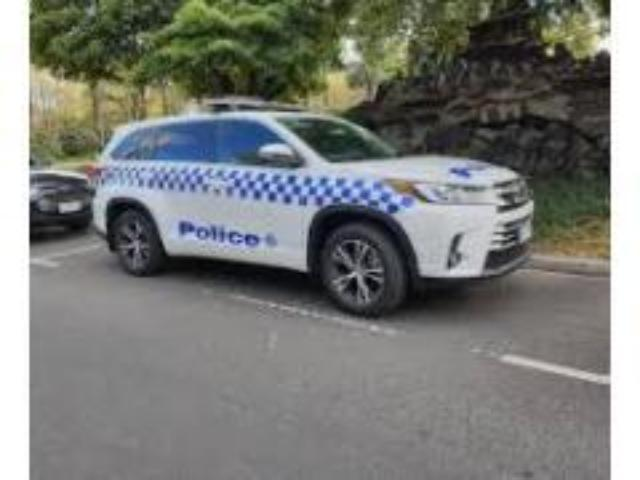police: (93, 96, 536, 317)
